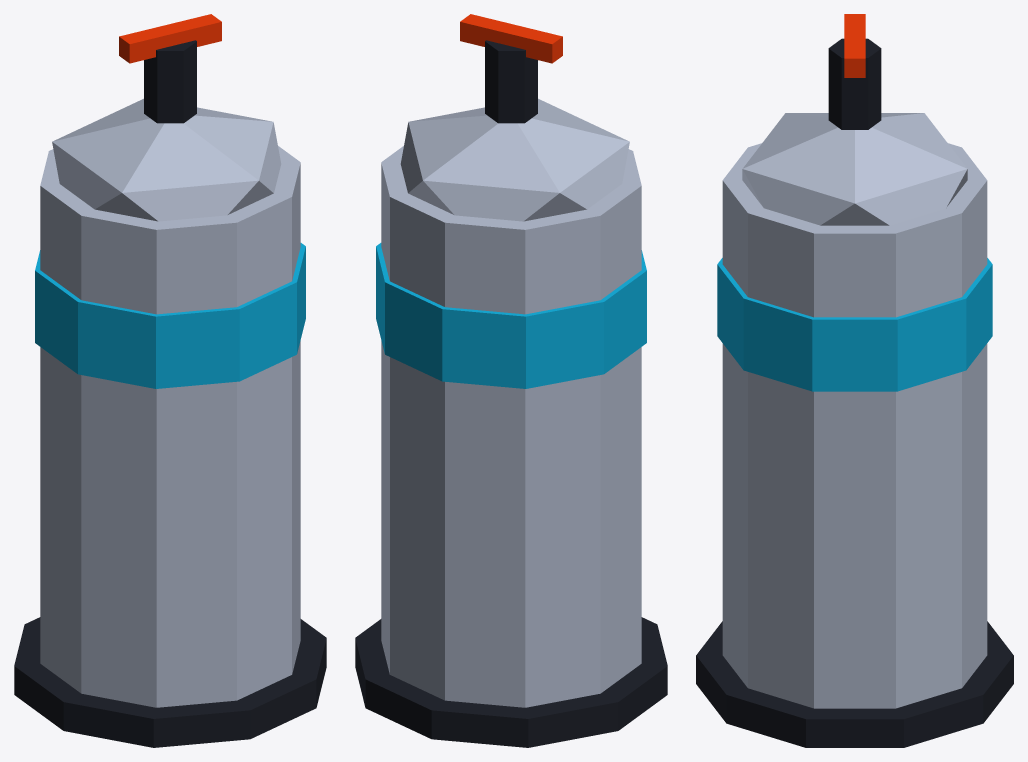
File: oxygen_tank.obj
3 views of the same model, side by side, from view 1: azimuth 30°, elevation 25°; view 2: azimuth 150°, elevation 25°; view 3: azimuth 270°, elevation 25° (orthographic).
Parts seen in each view (by area): view 1: oxygen_tank; view 2: oxygen_tank; view 3: oxygen_tank.
Part boxes in pixels (x1,y1,x2,y2): oxygen_tank: (14,14,326,747); oxygen_tank: (355,14,667,747); oxygen_tank: (696,14,1013,747).
Bounding box in the file's own units: 0.5706 × 1.35 × 0.6.
